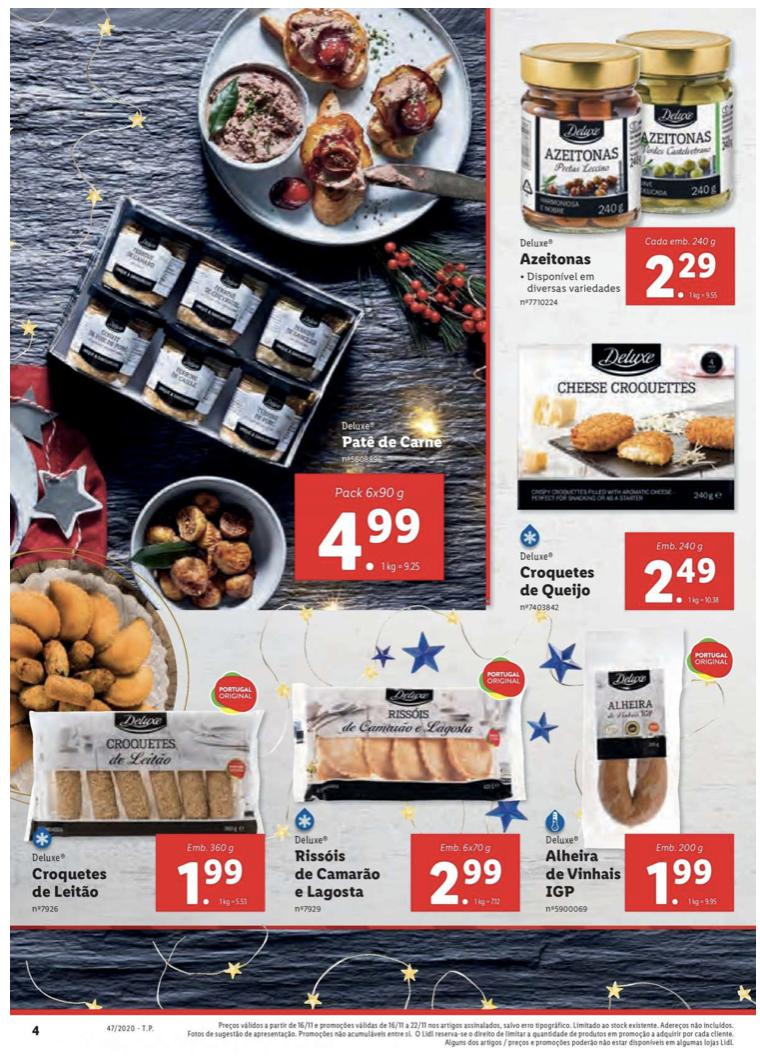name: (292, 843, 384, 902), (544, 844, 622, 902), (30, 861, 110, 901), (513, 562, 594, 601), (339, 430, 445, 455), (518, 251, 594, 272)
price: (307, 503, 432, 580), (636, 247, 727, 303), (636, 553, 723, 610), (423, 855, 511, 907), (174, 855, 251, 910), (640, 858, 719, 905)
product: (27, 176, 473, 590), (502, 8, 753, 319), (501, 330, 752, 611), (20, 661, 274, 918), (280, 661, 527, 919), (540, 627, 749, 920)
